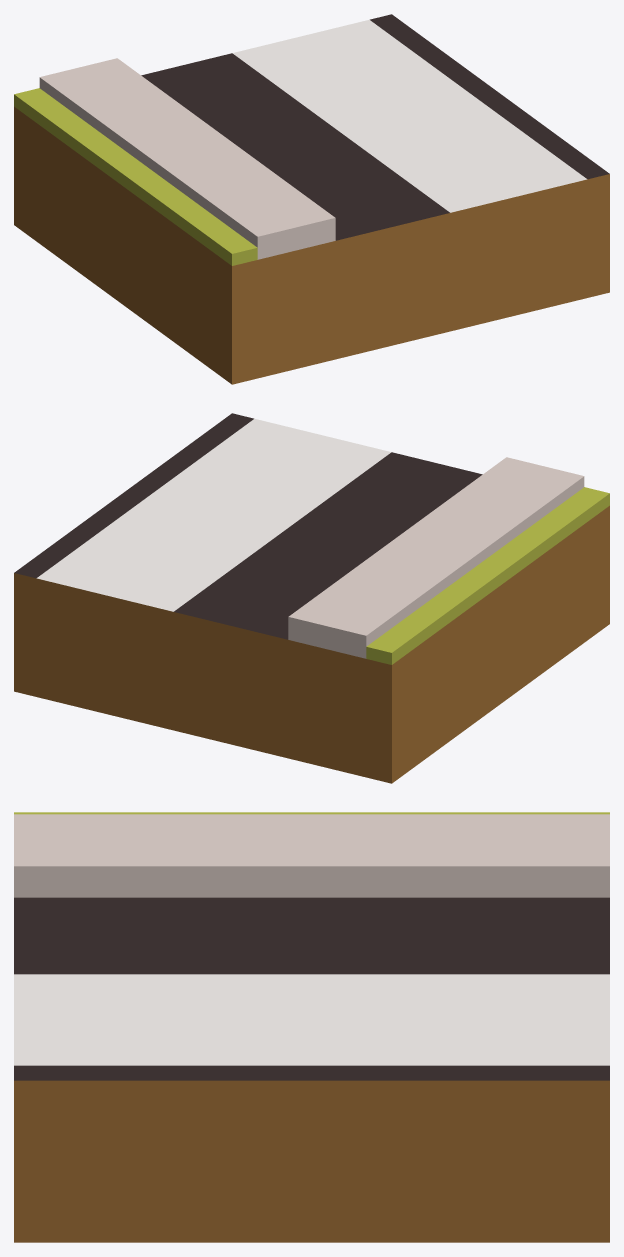
Rendered from floor_crosswalk1.fbx.
3 views of the same model, one above another, from view 1: azimuth 30°, elevation 25°; view 2: azimuth 150°, elevation 25°; view 3: azimuth 270°, elevation 25° (orthographic). The views are drawn at different scales.
Visible parts, largest first — view 1: floor_crosswalk1; view 2: floor_crosswalk1; view 3: floor_crosswalk1.
Boxes of the visible parts, x1,y1,x2,y2 form: floor_crosswalk1: (14,14,609,384); floor_crosswalk1: (14,413,609,783); floor_crosswalk1: (14,812,609,1242).
Size of the model in its own units: 100 by 100 by 35.83.
